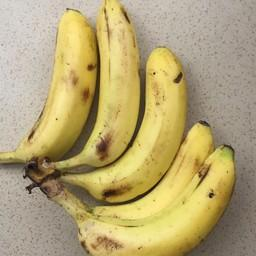Banana Ripe: (35, 132, 254, 256), (74, 42, 188, 220), (57, 0, 141, 190), (9, 4, 95, 172)
